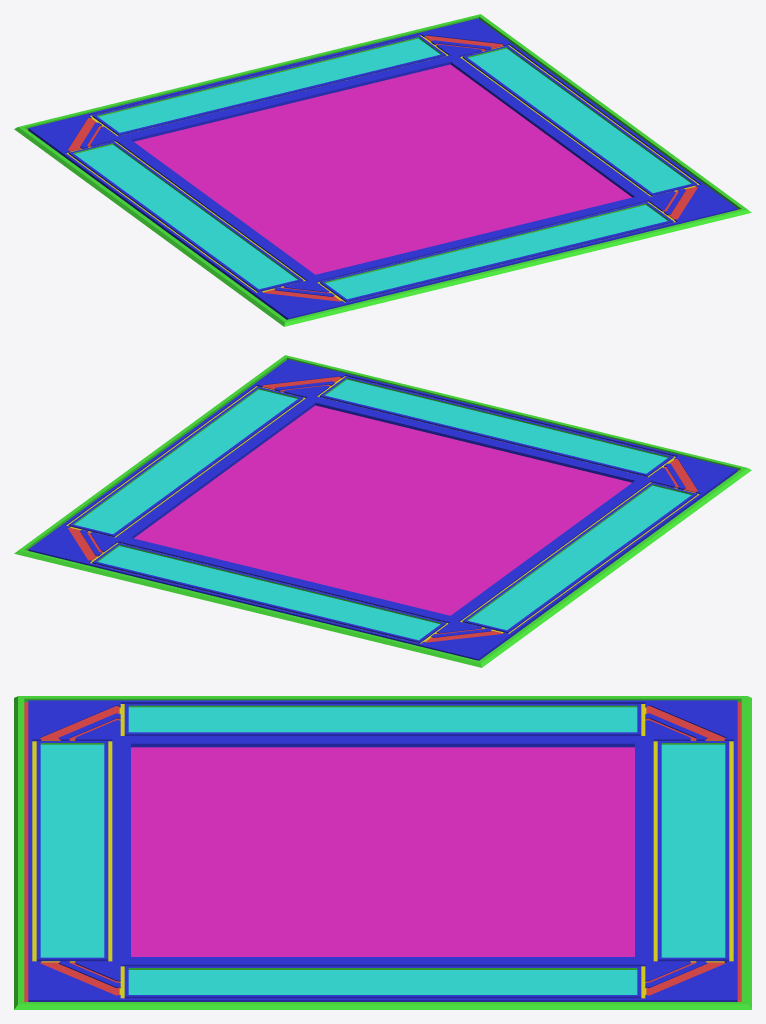
The model's file is Floor_11_G_Middle_A.fbx.
3 views of the same model, one above another, from view 1: azimuth 30°, elevation 25°; view 2: azimuth 150°, elevation 25°; view 3: azimuth 270°, elevation 25° (orthographic). The views are drawn at different scales.
Parts seen in each view (by area): view 1: Floor_11_G_Middle_A; view 2: Floor_11_G_Middle_A; view 3: Floor_11_G_Middle_A.
Boxes of the visible parts, bbox=[...] form: Floor_11_G_Middle_A: bbox=[14, 14, 751, 326]; Floor_11_G_Middle_A: bbox=[14, 355, 751, 667]; Floor_11_G_Middle_A: bbox=[14, 696, 751, 1009].
Size of the model in its own units: 457 by 2.54 by 457.
